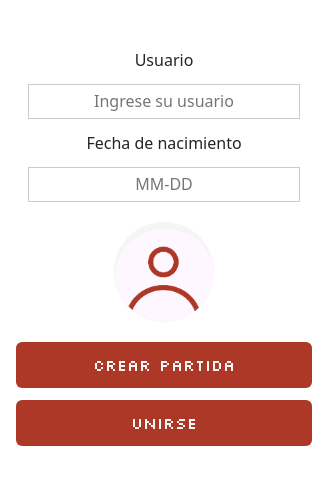
Test case: muestra mensaje de error si el nombre está vacío al crear partida
Click the button "Crear Partida".
click(164, 365)  # box x1=16 y1=342 x2=312 y2=388
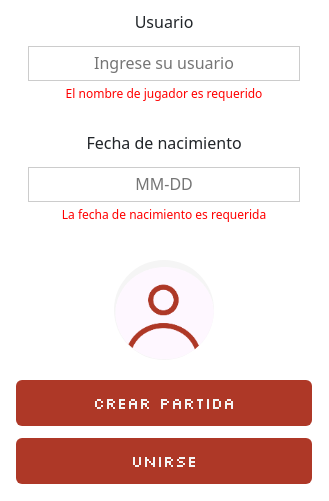
Expected: the text "El nombre de jugador es requerido" is shown, x1=66 y1=85 x2=262 y2=102
